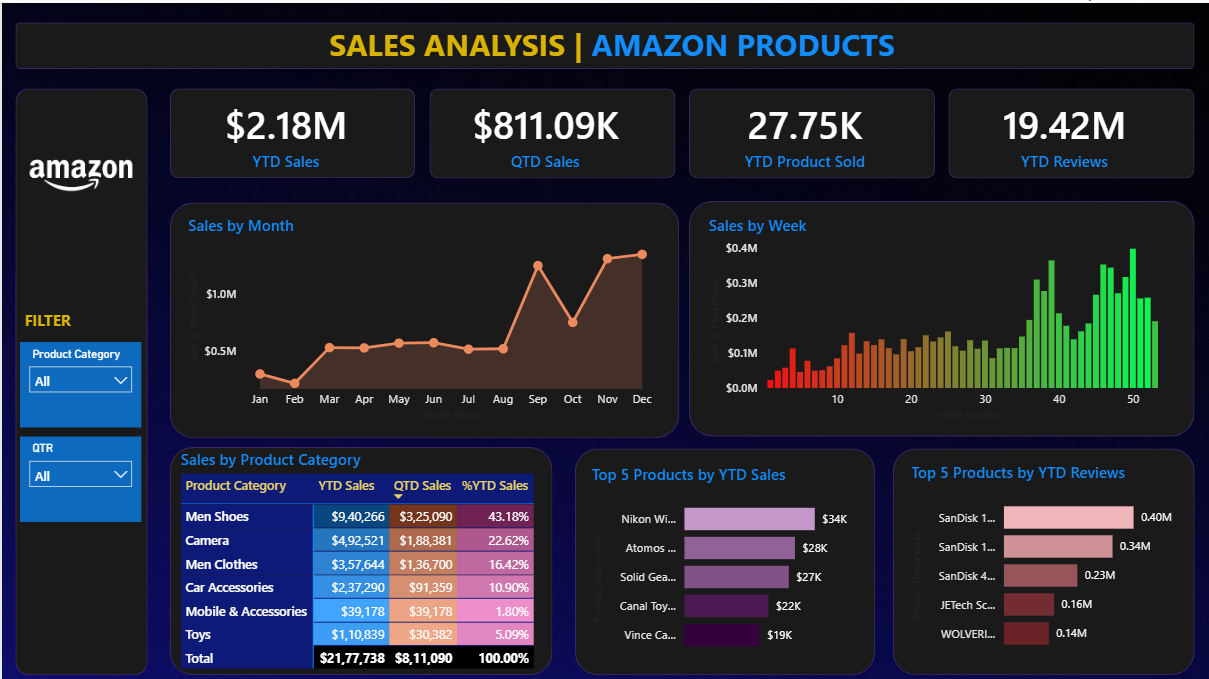

The page's visual inventory and layout, read from the dashboard file:
{"tool":"powerbi","page":{"name":"Amazon Products Sales Analysis Dashboard","canvas":[1280,720],"ordinal":0},"visuals":[{"type":"shape","box":[14.3,20.7,1250.2,49.3],"z":0},{"type":"shape","box":[178.1,90.7,260,95],"z":0,"group":"g1"},{"type":"textbox","box":[342,15.9,661.7,60.4],"z":1000},{"type":"card","fields":{"Values":["Amazon_Data.YTD Sales"]},"box":[178.1,90.7,245,95.4],"z":1000,"group":"g1"},{"type":"shape","box":[14.3,90.7,140,622],"z":2000},{"type":"shape","box":[452.7,90.7,260.9,95.4],"z":2000,"group":"g1"},{"type":"shape","box":[728.2,90.7,260.9,95.4],"z":3000,"group":"g1"},{"type":"shape","box":[178.1,211.6,540,250],"z":3000},{"type":"group","id":"g1","title":"Group 1","box":[178.1,90.7,1086.4,95.4],"z":4000},{"type":"shape","box":[1003.6,90.7,260.9,95.4],"z":4000,"group":"g1"},{"type":"card","fields":{"Values":["Amazon_Data.QTD Sales"]},"box":[453.3,90.7,245,95.4],"z":5000,"group":"g1"},{"type":"areaChart","title":"Sales by Month","fields":{"Category":["Date Table.Month Name"],"Y":["Sum(Amazon_Data.Price(Dollar))"]},"box":[192.5,224.3,505.8,222.7],"z":5000},{"type":"card","fields":{"Values":["Amazon_Data.YTD Reviews"]},"box":[1003.6,90.7,245,95.4],"z":6000,"group":"g1"},{"type":"shape","box":[728.5,210,536,249.7],"z":6000},{"type":"card","fields":{"Values":["Amazon_Data.YTD Product Sold"]},"box":[728.5,90.7,245,95.4],"z":7000,"group":"g1"},{"type":"columnChart","title":"Sales by Week","fields":{"Category":["Date Table.Week Number"],"Y":["Sum(Amazon_Data.Price(Dollar))"]},"box":[744.4,224.3,505.8,222.7],"z":7000},{"type":"shape","box":[178.1,470.8,405.6,241.8],"z":8000},{"type":"pivotTable","title":"Sales by Product Category","fields":{"Rows":["Amazon_Data.Product Category"],"Values":["Amazon_Data.YTD Sales1","Amazon_Data.QTD Sales","Amazon_Data.YTD Sales"]},"box":[184.5,472.4,408.8,240.2],"z":9000},{"type":"shape","box":[607.6,472.4,318.1,240.2],"z":10000},{"type":"shape","box":[944.8,472.4,319.7,240.2],"z":11000},{"type":"clusteredBarChart","title":"Top 5 Products by YTD Sales","fields":{"Y":["Amazon_Data.YTD Sales"],"Category":["Amazon_Data.Product Description"]},"box":[620.3,488.3,291.1,211.6],"z":12000},{"type":"clusteredBarChart","title":"Top 5 Products by YTD Reviews","fields":{"Category":["Amazon_Data.Product Description"],"Y":["Amazon_Data.YTD Reviews"]},"box":[959.1,486.7,291.1,211.6],"z":13000},{"type":"slicer","fields":{"Values":["Amazon_Data.Product Category"]},"box":[19.1,359.5,128.8,90.7],"z":14000},{"type":"slicer","fields":{"Values":["Date Table.QTR"]},"box":[19.1,459.7,128.8,90.7],"z":15000},{"type":"image","box":[19.1,124.1,128.8,117.7],"z":16000},{"type":"textbox","box":[19.1,319.7,85.9,31.8],"z":16001}]}

Visuals, with their boxes in screenshot pixels (x1, y1, x2, y2), scaled from the page's 1280x720 canvas onto the 1209x679 screenshot:
shape: bbox=(14, 20, 1194, 66)
shape: bbox=(168, 86, 414, 175)
textbox: bbox=(323, 15, 948, 72)
card - Amazon_Data.YTD Sales: bbox=(168, 86, 400, 176)
shape: bbox=(14, 86, 146, 672)
shape: bbox=(428, 86, 674, 176)
shape: bbox=(688, 86, 934, 176)
shape: bbox=(168, 200, 678, 435)
"Group 1" group: bbox=(168, 86, 1194, 176)
shape: bbox=(948, 86, 1194, 176)
card - Amazon_Data.QTD Sales: bbox=(428, 86, 660, 176)
"Sales by Month" areaChart: bbox=(182, 212, 660, 422)
card - Amazon_Data.YTD Reviews: bbox=(948, 86, 1179, 176)
shape: bbox=(688, 198, 1194, 434)
card - Amazon_Data.YTD Product Sold: bbox=(688, 86, 920, 176)
"Sales by Week" columnChart: bbox=(703, 212, 1181, 422)
shape: bbox=(168, 444, 551, 672)
"Sales by Product Category" pivotTable: bbox=(174, 445, 560, 672)
shape: bbox=(574, 445, 874, 672)
shape: bbox=(892, 445, 1194, 672)
"Top 5 Products by YTD Sales" clusteredBarChart: bbox=(586, 460, 861, 660)
"Top 5 Products by YTD Reviews" clusteredBarChart: bbox=(906, 459, 1181, 659)
slicer - Amazon_Data.Product Category: bbox=(18, 339, 140, 425)
slicer - Date Table.QTR: bbox=(18, 434, 140, 519)
image: bbox=(18, 117, 140, 228)
textbox: bbox=(18, 301, 99, 331)
